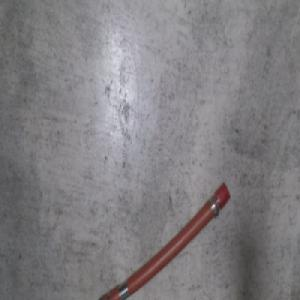Hose: (94, 177, 230, 300)
